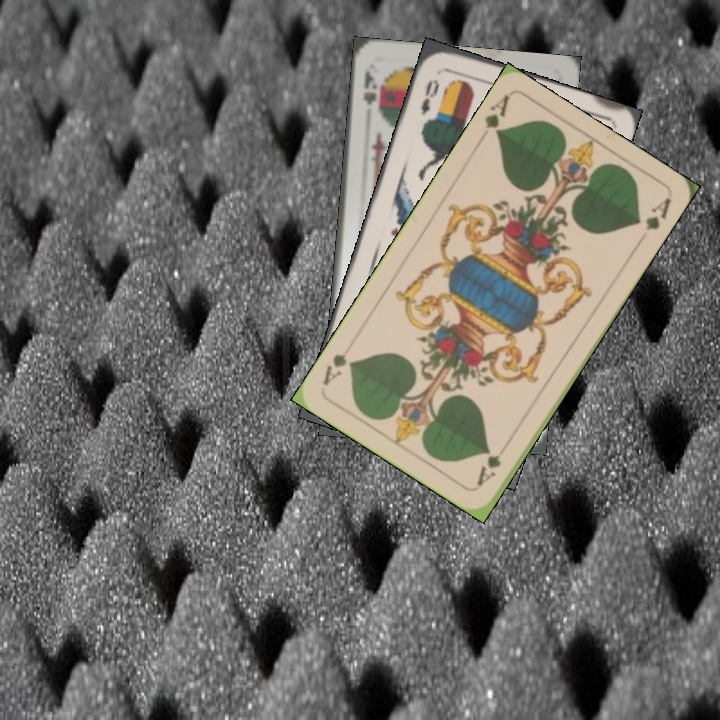EO: (416, 75, 442, 118)
GA: (474, 91, 512, 145), (472, 450, 504, 489)
SK: (359, 66, 384, 117)
